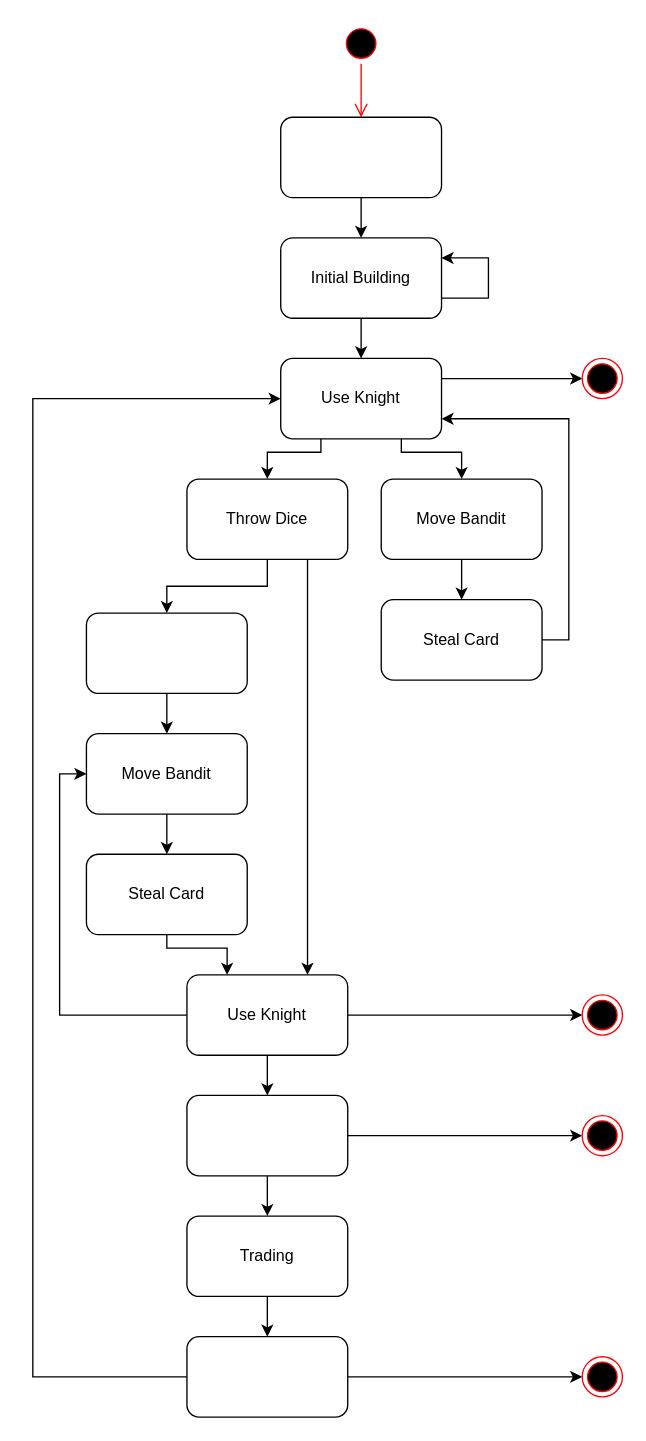
Image size: 646x1441. Some labels were removed from this diagram. Each missing label, with the centre of its shape:
"Building" goes at point (267, 1376).
"Force Discard" goes at point (166, 652).
"Setup" goes at point (360, 157).
"Use Cards" goes at point (267, 1135).
